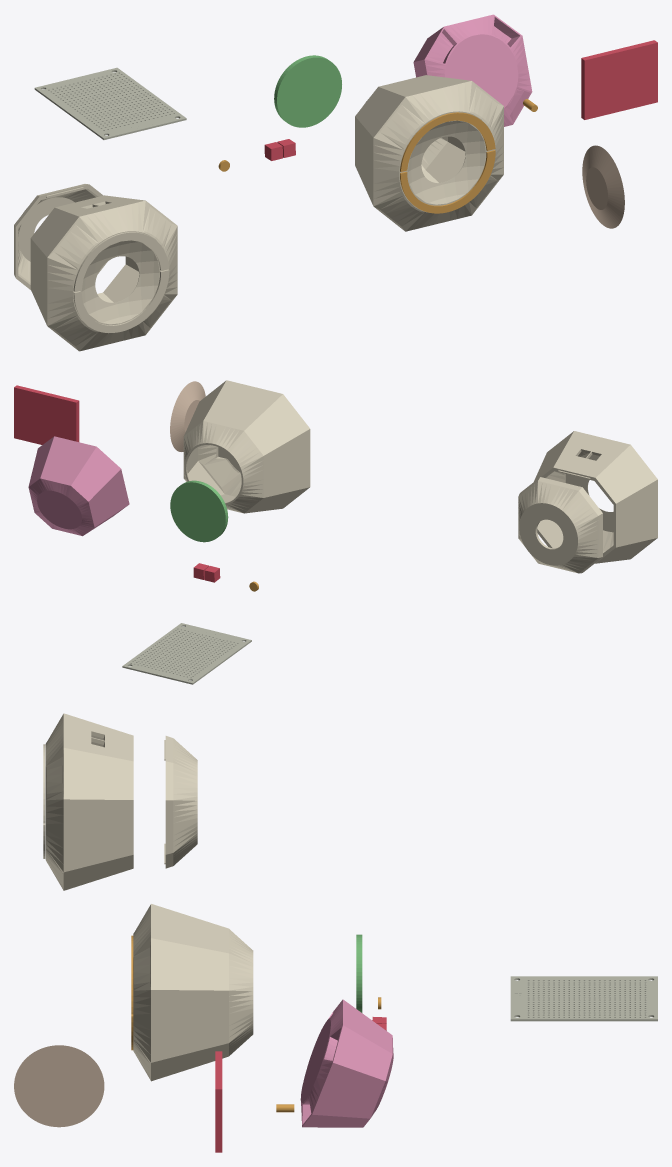
Rendered from Praktischer Körper mit den Buttonlöchern.glb.
3 renders of one model, top to bottom at view 1: azimuth 30°, elevation 25°; view 2: azimuth 150°, elevation 25°; view 3: azimuth 270°, elevation 25°, orthographic. The views are drawn at different scales.
Parts seen in each view (by area): view 1: Mesh_Mesh_head_geo.001_lambert2SG.001; view 2: Mesh_Mesh_head_geo.001_lambert2SG.001; view 3: Mesh_Mesh_head_geo.001_lambert2SG.001.
Boxes of the visible parts, x1,y1,x2,y2 form: Mesh_Mesh_head_geo.001_lambert2SG.001: (14,14,657,351); Mesh_Mesh_head_geo.001_lambert2SG.001: (14,380,657,684); Mesh_Mesh_head_geo.001_lambert2SG.001: (14,713,657,1152).
Size of the model in its own units: 418 by 79 by 322.
